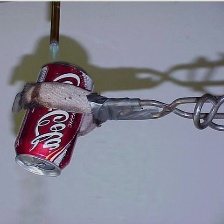can: (10, 58, 99, 178)
